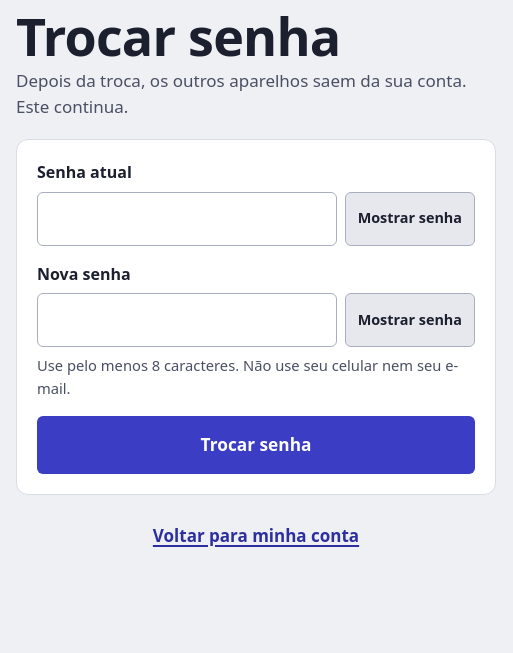
Test: /conta/trocar-senha › 429: mensagem de espera
Type "Casa-Azul-2026" into the password field labelled "Senha atual".
click(187, 218); type("Casa-Azul-2026")  # box [37, 192, 337, 246]
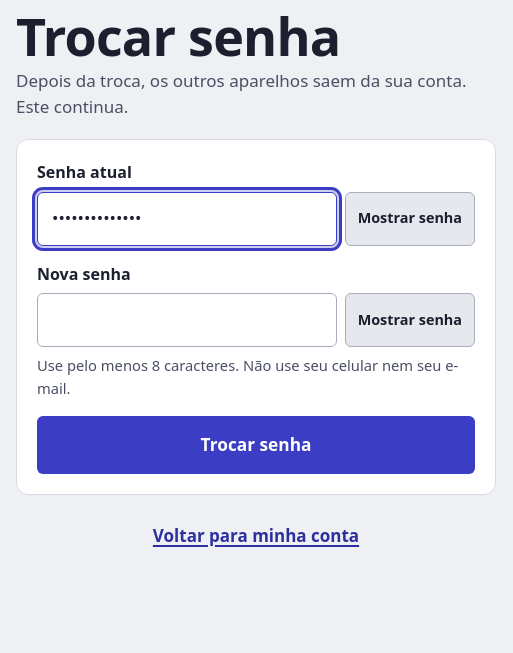
Type "Casa-Verde-2026" into the password field labelled "Nova senha".
click(187, 320); type("Casa-Verde-2026")  # box [37, 293, 337, 347]
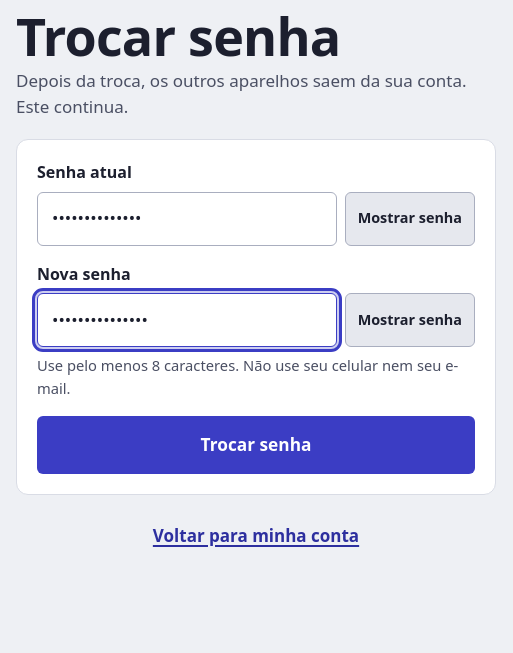
Click the button "Trocar senha".
click(256, 445)  # box [37, 416, 475, 474]
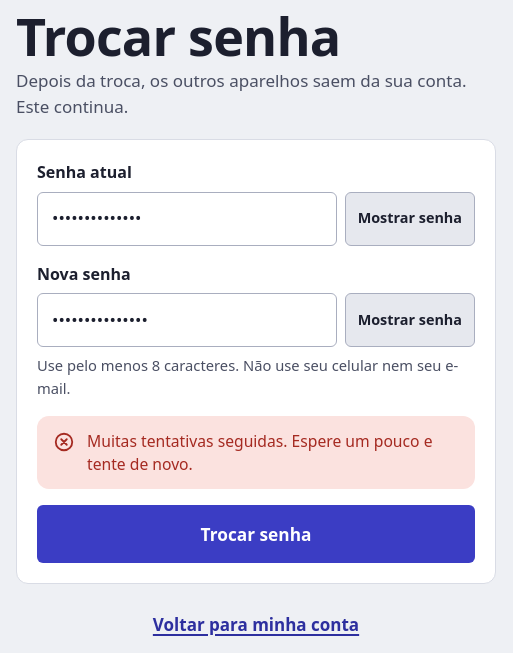
Result: the message shows "Muitas tentativas seguidas." at [87, 430, 432, 475]
